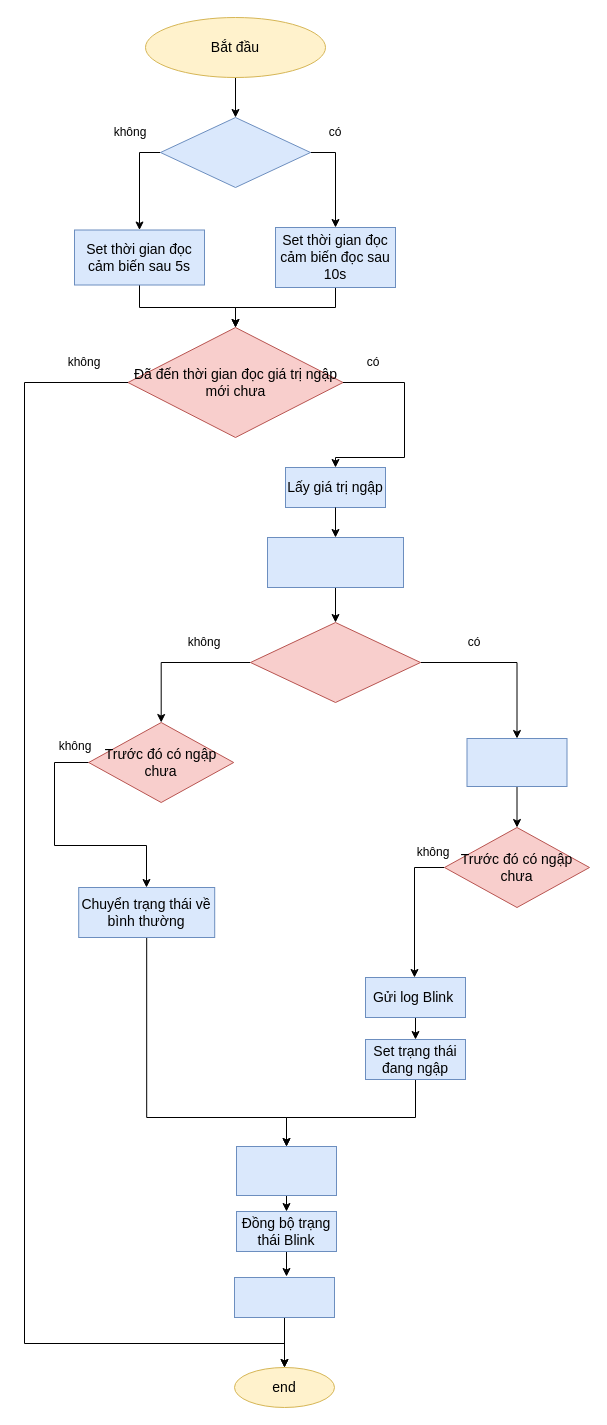
The diagram is 607 pixels wide and 1425 high, and some of its shapes have lost their labels. The shapes that lost their labels are listed below. From the top down, each one's centre as x and y in pixels, then its label:
pixel 235 152: Đang ngập trong gara
pixel 335 562: set trạng thái bật máy bơm: OFF
pixel 335 662: Đá quá ngưỡng ngập hay chưa
pixel 516 762: set trạng thái bật máy bơm: ON
pixel 286 1171: Nhận trạng thái bật/tắt máy bơm
pixel 284 1297: Gửi log Serial
